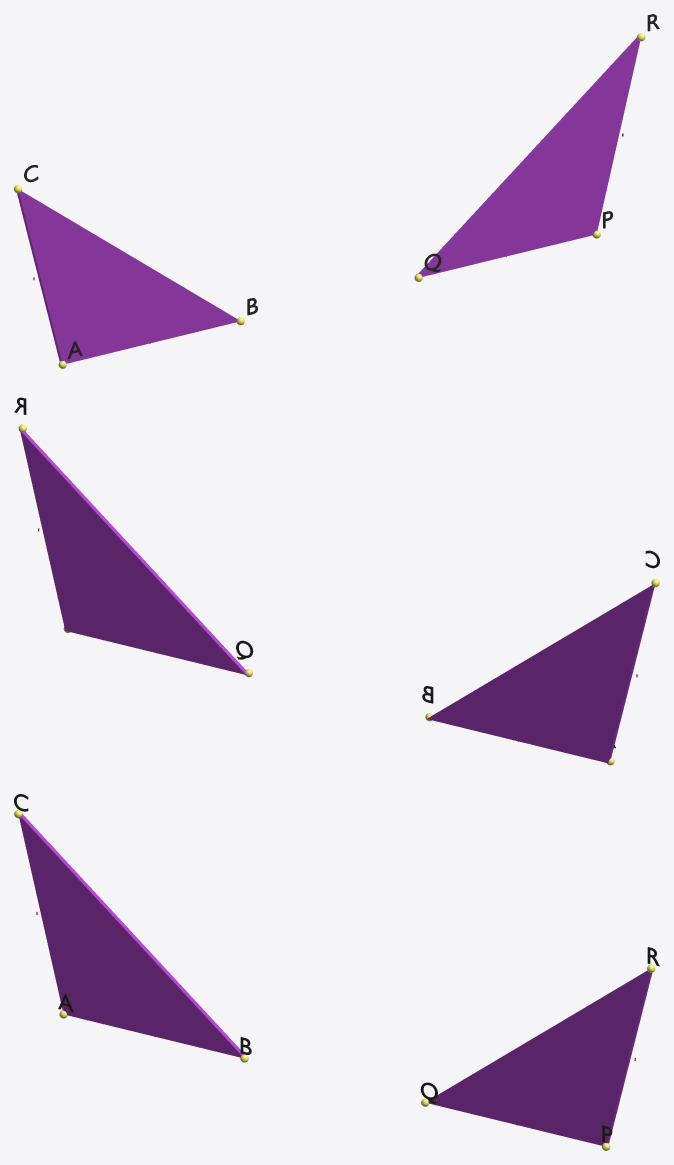
Rendered from sas_congruent_triangles_use_this_one.glb.
The picture shows the model from 3 angles, top to bottom: view 1: azimuth 30°, elevation 25°; view 2: azimuth 150°, elevation 25°; view 3: azimuth 330°, elevation 25°; orthographic projection.
Visible parts, largest first — view 1: Triangle_PQR, Triangle_ABC; view 2: Triangle_PQR, Triangle_ABC; view 3: Triangle_ABC, Triangle_PQR.
Boxes of the visible parts, x1=… form: Triangle_PQR: x1=418, y1=37, x2=639, y2=276; Triangle_ABC: x1=17, y1=191, x2=237, y2=363; Triangle_PQR: x1=20, y1=430, x2=246, y2=674; Triangle_ABC: x1=427, y1=585, x2=654, y2=763; Triangle_ABC: x1=19, y1=814, x2=243, y2=1057; Triangle_PQR: x1=428, y1=970, x2=652, y2=1145.
Size of the model in its own units: 7.19 by 2.31 by 0.155.
